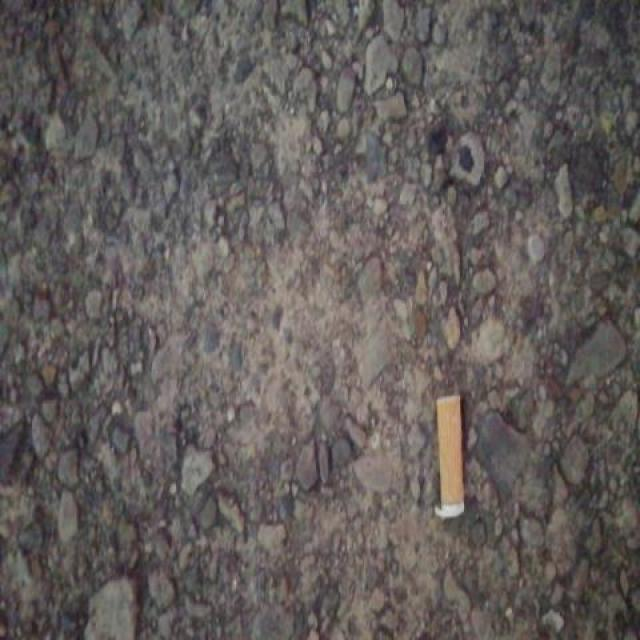non-organic waste: (431, 390, 469, 522)
